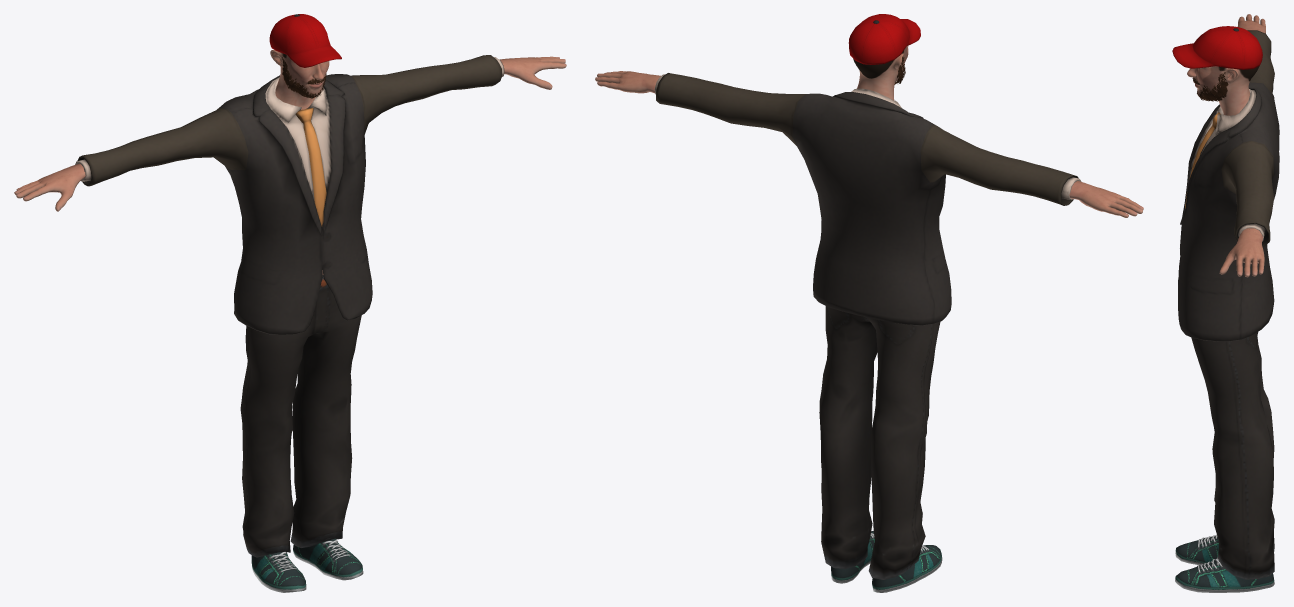
The model's file is paristexas.obj.
3 views of the same model, side by side, from view 1: azimuth 30°, elevation 25°; view 2: azimuth 150°, elevation 25°; view 3: azimuth 270°, elevation 25° (orthographic).
Visible parts, largest first — view 1: Tops, Bottoms, Body, Shoes, Hats; view 2: Tops, Bottoms, Body, Hats, Shoes; view 3: Tops, Bottoms, Body, Hats, Shoes, Beards.
Boxes of the visible parts, <box> form: Tops: <box>75,55,504,334</box>; Bottoms: <box>240,275,361,557</box>; Body: <box>14,50,566,274</box>; Shoes: <box>251,538,363,592</box>; Hats: <box>269,14,341,67</box>; Tops: <box>654,73,1081,325</box>; Bottoms: <box>819,306,940,579</box>; Body: <box>595,46,1143,217</box>; Hats: <box>848,14,920,64</box>; Shoes: <box>831,531,942,592</box>; Tops: <box>1178,30,1279,341</box>; Bottoms: <box>1191,332,1274,579</box>; Body: <box>1187,14,1265,277</box>; Hats: <box>1172,26,1262,69</box>; Shoes: <box>1175,534,1274,592</box>; Beards: <box>1197,72,1228,101</box>.
Size of the model in its own units: 193 by 187 by 33.24.
Materials: 1 (1 with a texture image).
